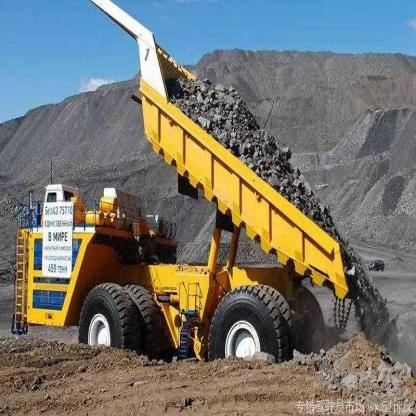dump_truck: (10, 2, 365, 369)
